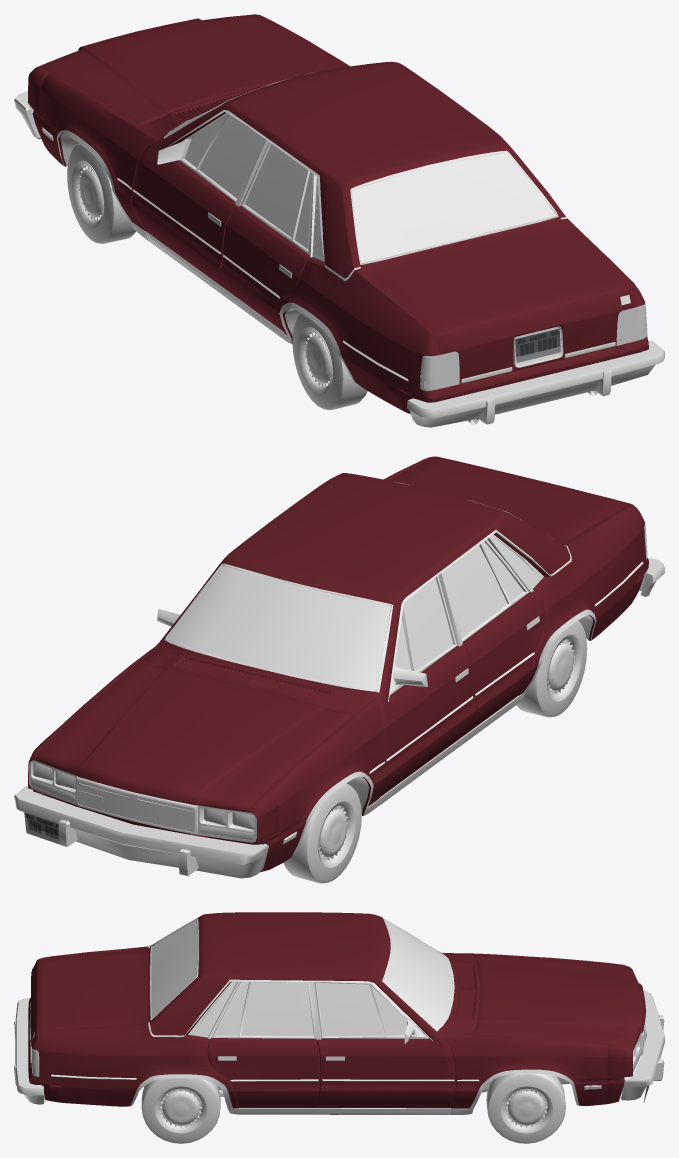
File: fairheaven_lt.glb
The picture shows the model from 3 angles, top to bottom: view 1: azimuth 30°, elevation 25°; view 2: azimuth 150°, elevation 25°; view 3: azimuth 270°, elevation 25°; orthographic projection. The views are drawn at different scales.
Parts seen in each view (by area): view 1: Body, LightsRear, Trim, WheelRL, WheelFL, Interior, Glass, LightsFront; view 2: Body, Trim, LightsFront, LightsRear, Interior, WheelFL, WheelRL, Glass; view 3: Body, Trim, LightsRear, LightsFront, WheelFR, WheelRR, Interior.
Boxes of the visible parts, <box> form: Body: <box>28,14,648,413</box>; LightsRear: <box>199,116,647,389</box>; Trim: <box>14,72,664,427</box>; WheelRL: <box>292,313,367,410</box>; WheelFL: <box>67,143,135,243</box>; Interior: <box>461,326,615,383</box>; Glass: <box>515,328,560,362</box>; LightsFront: <box>169,106,226,167</box>; Body: <box>28,456,648,872</box>; Trim: <box>14,481,664,878</box>; LightsFront: <box>31,565,411,840</box>; LightsRear: <box>403,525,647,670</box>; Interior: <box>29,760,256,842</box>; WheelFL: <box>283,783,361,883</box>; WheelRL: <box>516,620,587,717</box>; Glass: <box>24,812,59,844</box>; Body: <box>28,912,645,1114</box>; Trim: <box>14,917,664,1114</box>; LightsRear: <box>31,920,383,1075</box>; LightsFront: <box>371,919,640,1071</box>; WheelFR: <box>486,1073,565,1143</box>; WheelRR: <box>141,1078,220,1143</box>; Interior: <box>29,1003,645,1103</box>.
Size of the model in its own units: 6.21 by 4.59 by 17.
